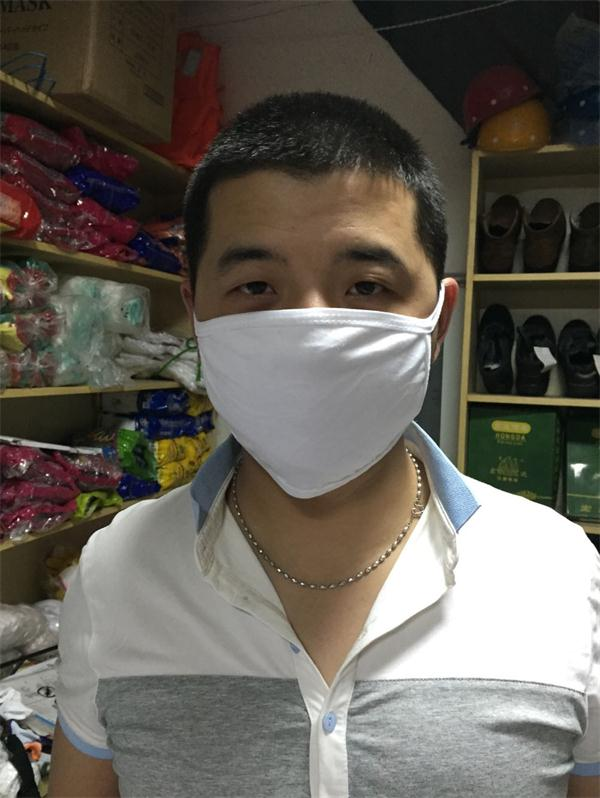face_mask: (202, 157, 429, 496)
